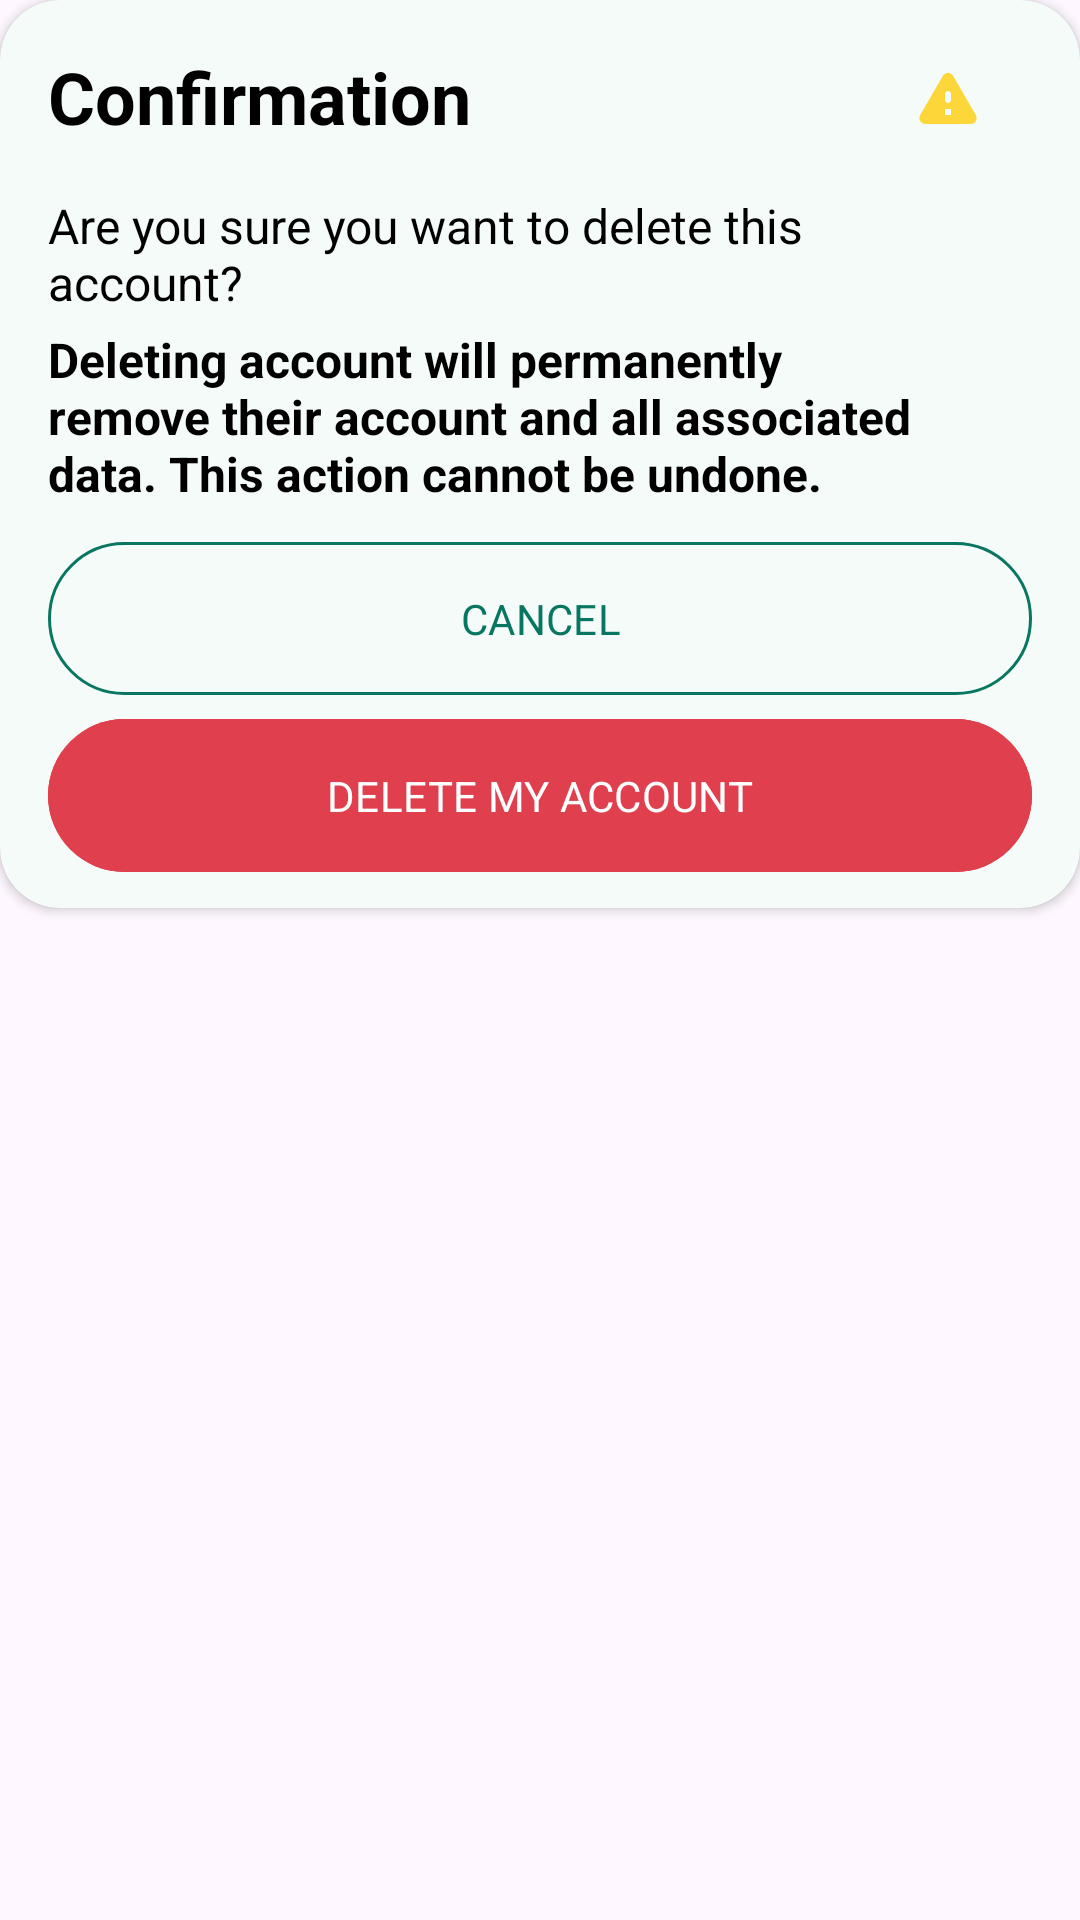

Named icons in this screenshot (1080 x 1920) and their centers, (x=x, y=y):
warning: (x=948, y=98)
